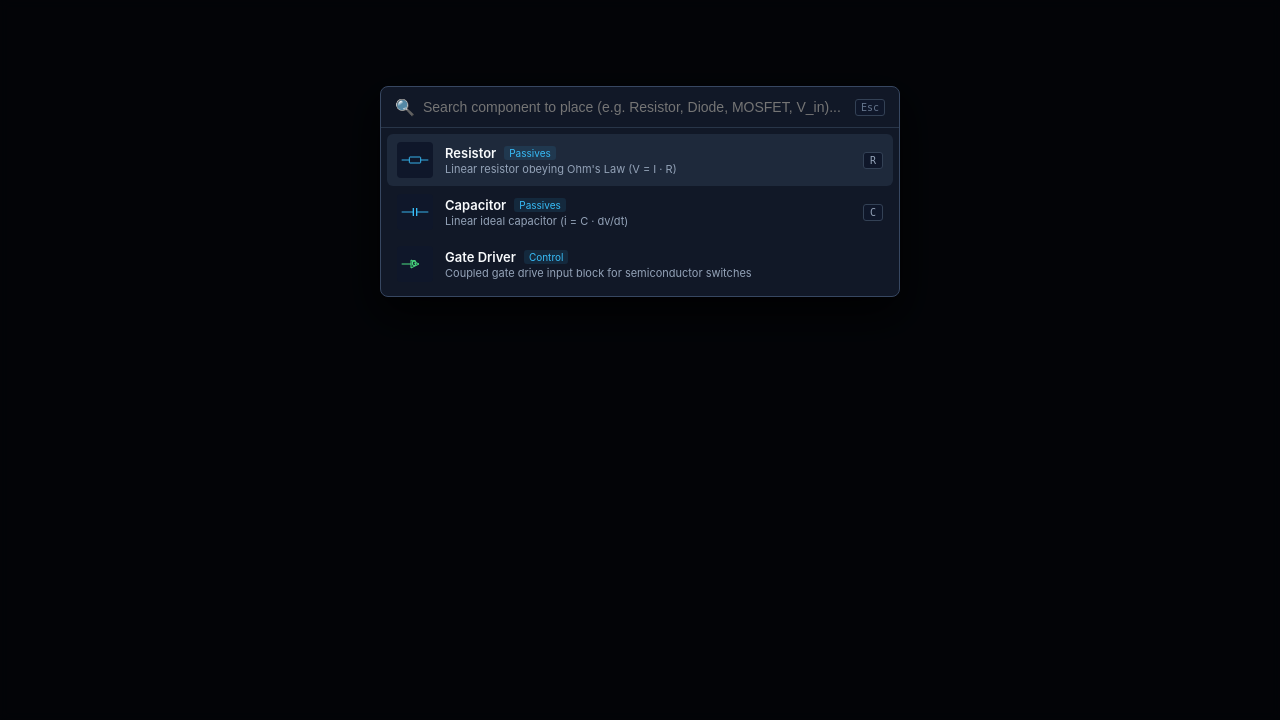
Test: CommandPalette & getMatchScore › CommandPalette Component › filters components based on query
Replace the text in the field with placeholder "Search component to place" with "cap" at (635, 107), box [423, 99, 847, 115]
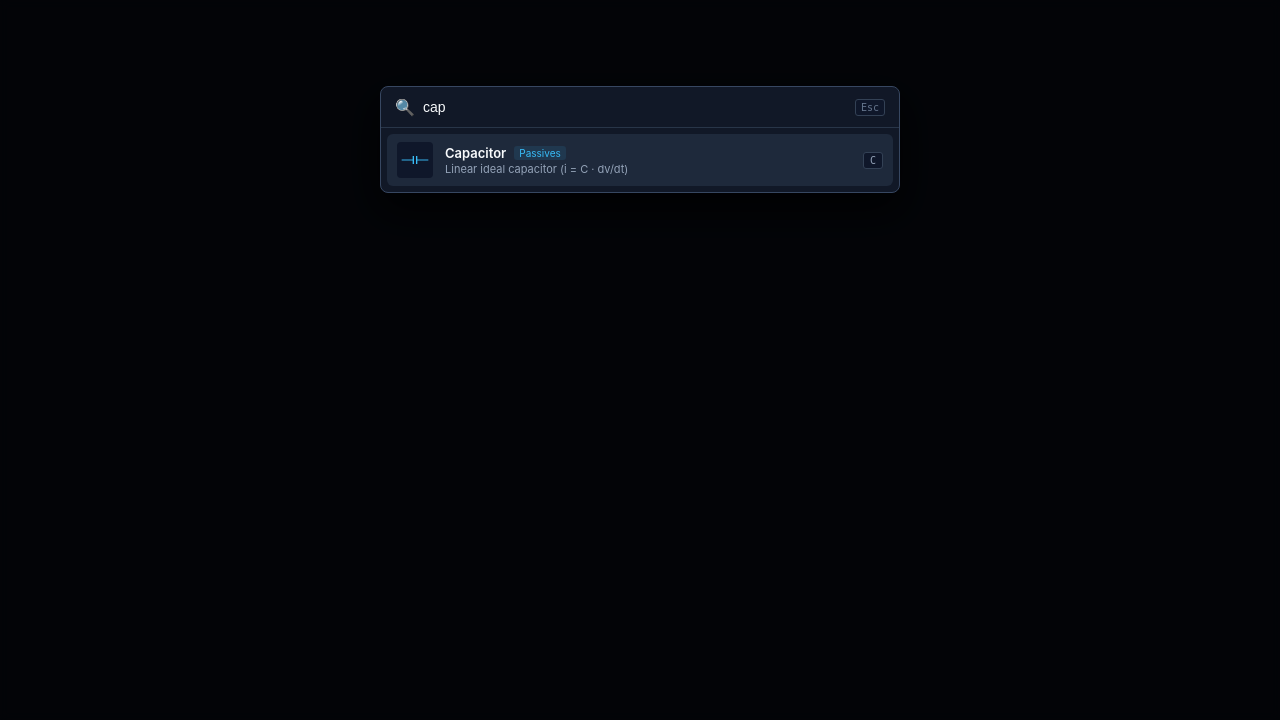
Expected: the text "Capacitor" is shown, [445, 145, 506, 161]
Now the text "Resistor" is gone
